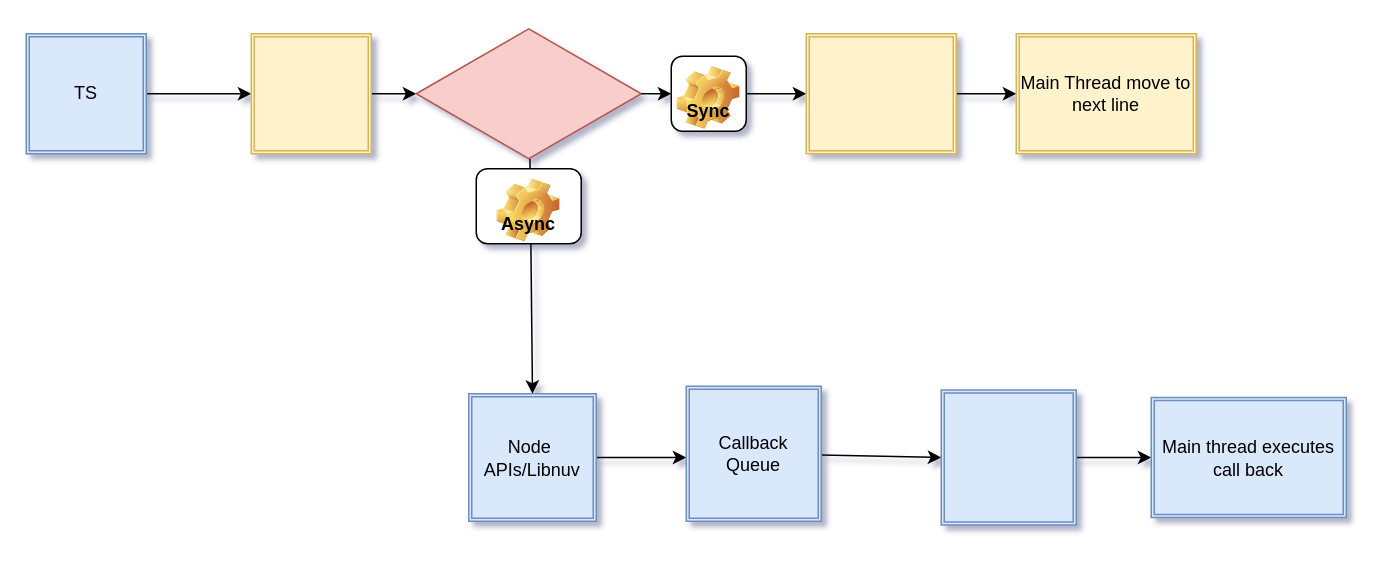
Some shapes in this 1382 by 561 pixel diagram are drawn without their labels. The centre of each missing label's shape, as x and y in pixels:
"Event Loop" goes at (1008,456).
"JS" goes at (310,93).
"Main Thread executes" goes at (880,93).
"Sync/Async" goes at (528,93).
